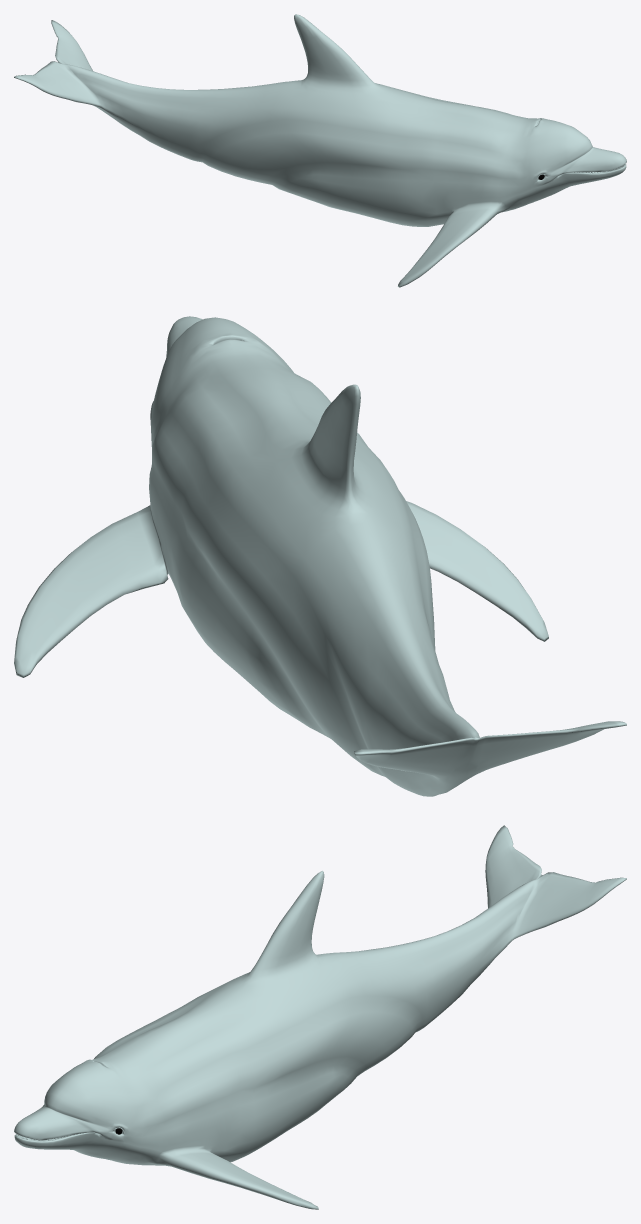
Rendered from dolphin_000006.obj.
3 renders of one model, top to bottom at view 1: azimuth 30°, elevation 25°; view 2: azimuth 150°, elevation 25°; view 3: azimuth 270°, elevation 25°, orthographic. The views are drawn at different scales.
Visible parts, largest first — view 1: Dolphin; view 2: Dolphin; view 3: Dolphin.
Part boxes in pixels (x1,y1,x2,y2): Dolphin: (14, 14, 626, 287); Dolphin: (14, 316, 626, 796); Dolphin: (14, 825, 626, 1209).
Bounding box in the file's own units: 5.51 × 2.52 × 5.6.
